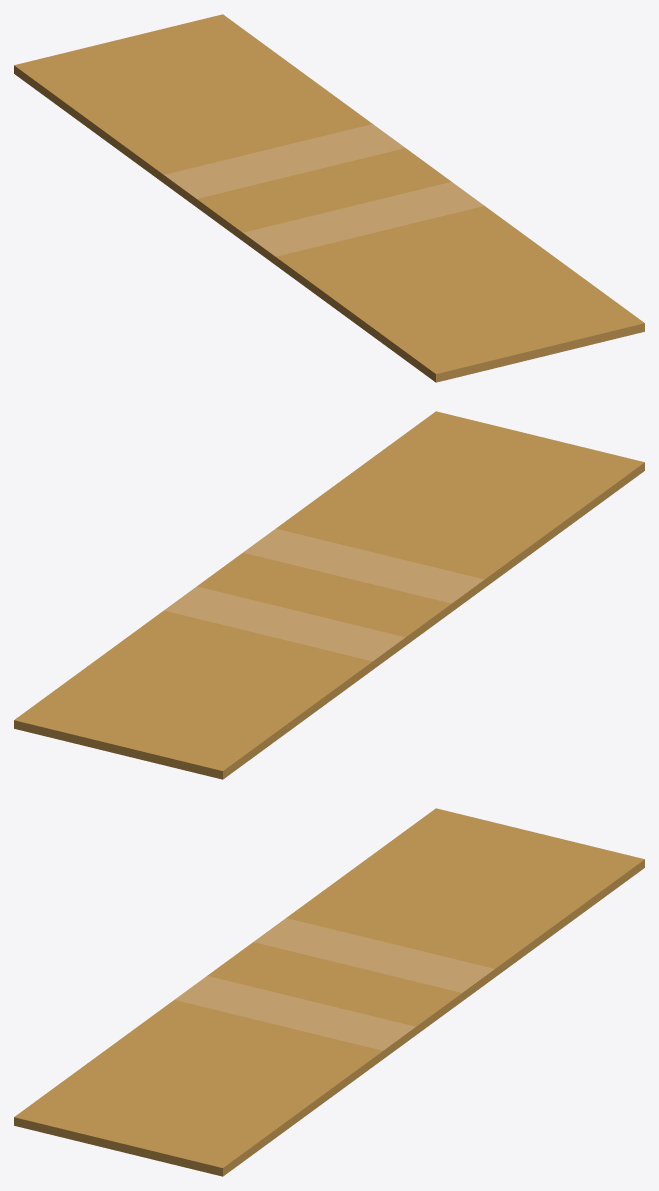
File: road8.fbx
3 views of the same model, one above another, from view 1: azimuth 30°, elevation 25°; view 2: azimuth 150°, elevation 25°; view 3: azimuth 330°, elevation 25° (orthographic).
Parts seen in each view (by area): view 1: Cube_22; view 2: Cube_22; view 3: Cube_22.
Boxes of the visible parts, x1,y1,x2,y2 form: Cube_22: (14, 14, 644, 382); Cube_22: (14, 411, 644, 779); Cube_22: (14, 808, 644, 1176).
Bounding box in the file's own units: 200 × 7.81 × 700.
